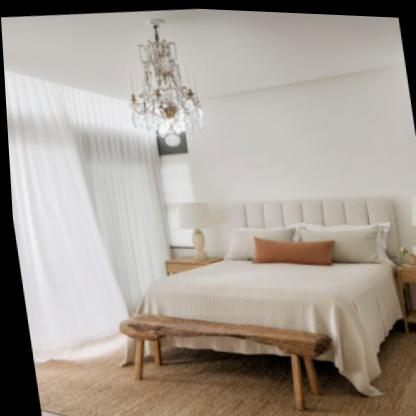Bed: (147, 179, 415, 381)
Curtains: (3, 70, 165, 361)
